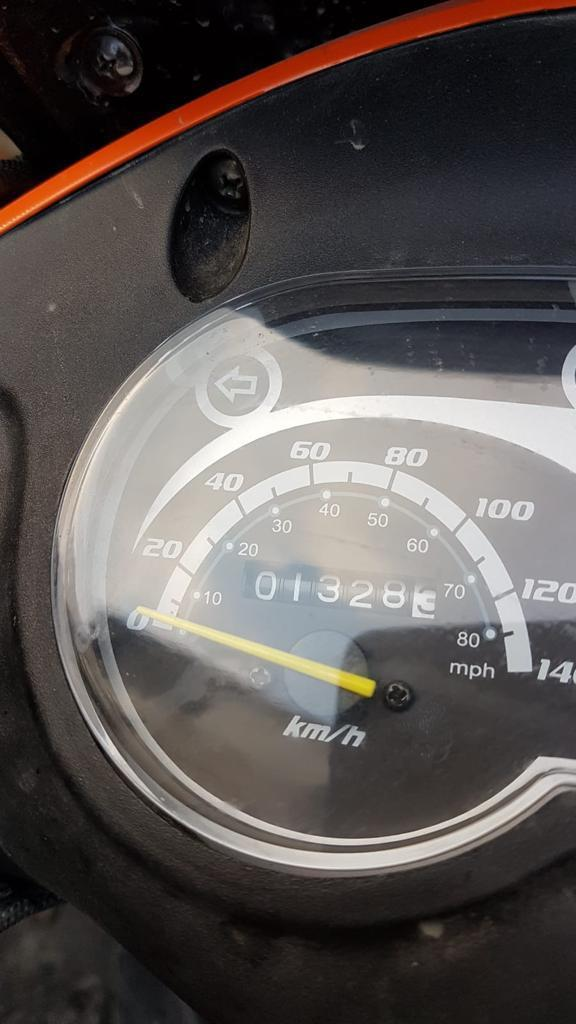0: (253, 568, 277, 602)
1: (288, 568, 307, 604)
2: (346, 576, 375, 610)
3: (316, 569, 341, 605), (414, 582, 439, 616)
8: (379, 577, 408, 610)
odometer: (233, 555, 441, 624)
